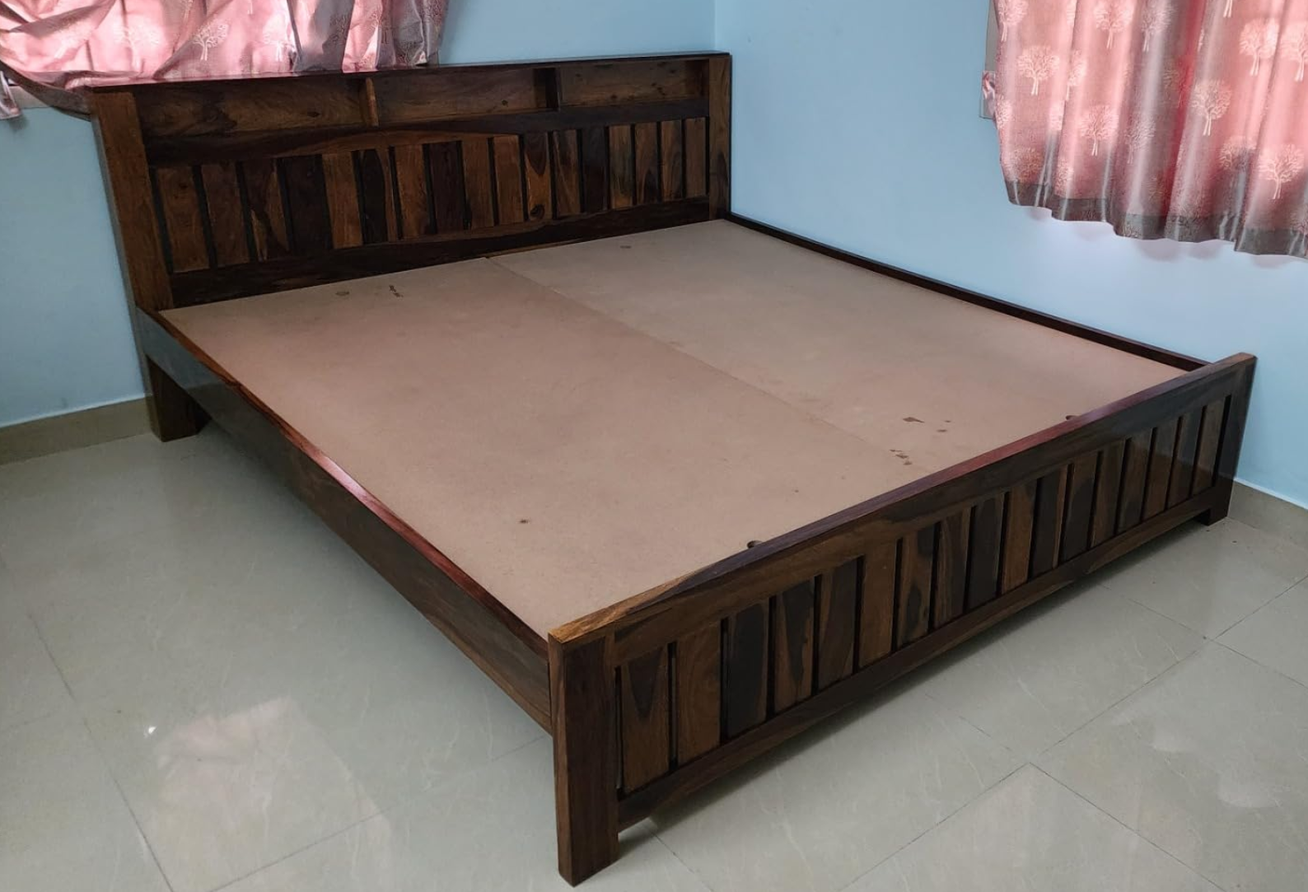cot: (76, 51, 1263, 884)
